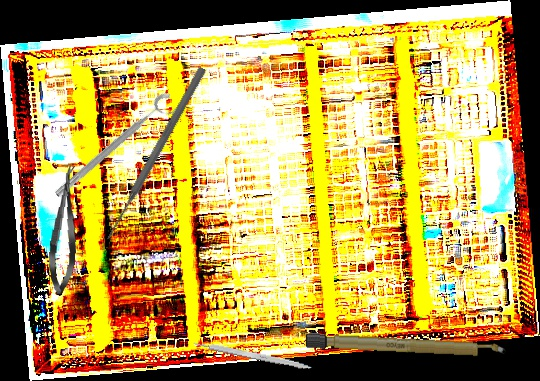Fixation Ring: (51, 89, 182, 208)
Micro Scissor: (45, 164, 84, 296)
Pusher: (102, 65, 208, 243)
Scalpel Handle: (303, 332, 509, 360), (192, 338, 316, 372)
